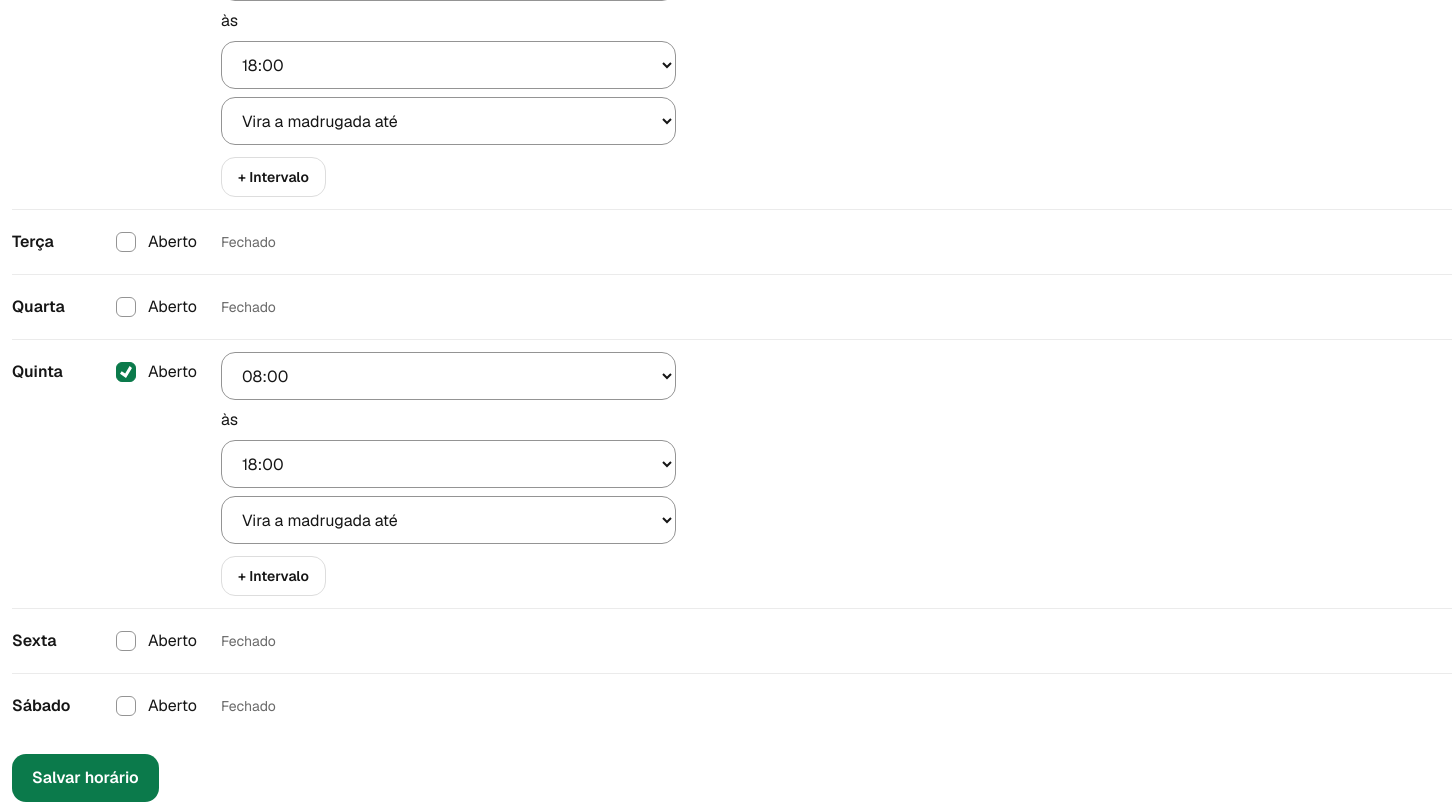
it: HoursEditor › puts a server field error on the row it refers to
(page scrolled)
Click the button "Salvar horário".
click(85, 778)  # box [12,754,159,801]
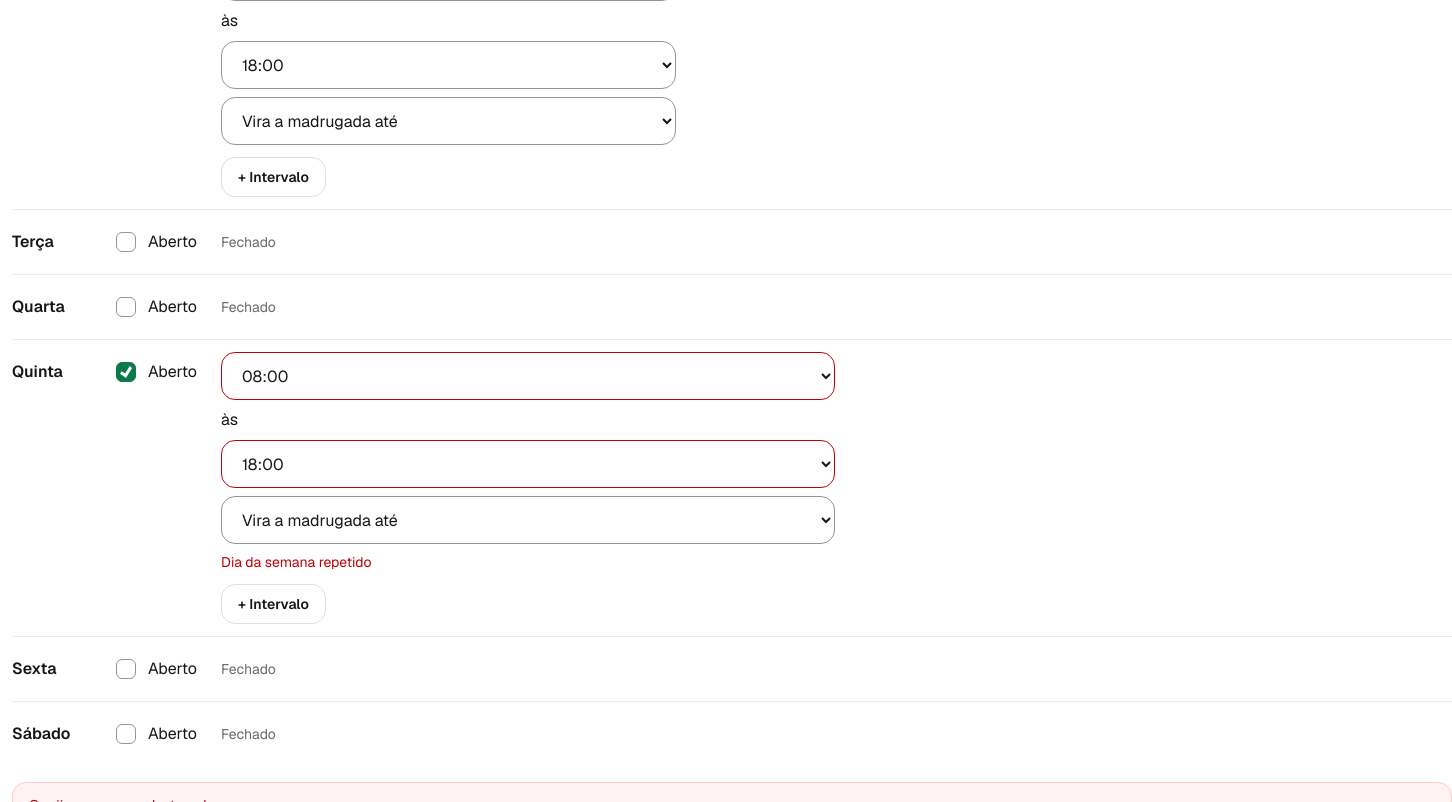
Expected: the text "Dia da semana repetido" is shown, [221,553,372,571]
